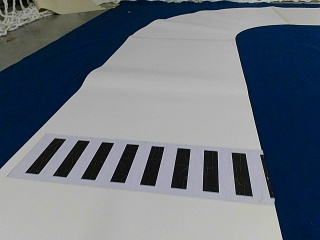crosswalk: (26, 138, 264, 198)
